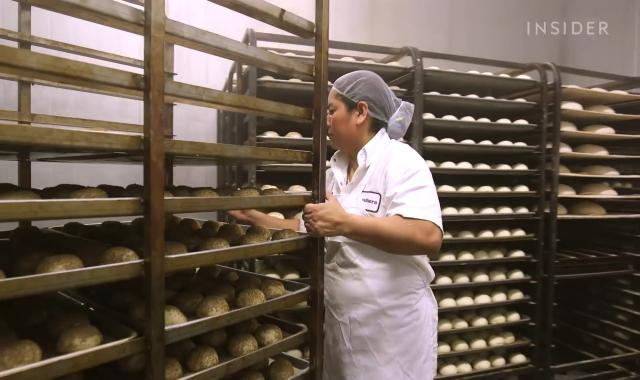hairnet: (331, 71, 417, 137)
